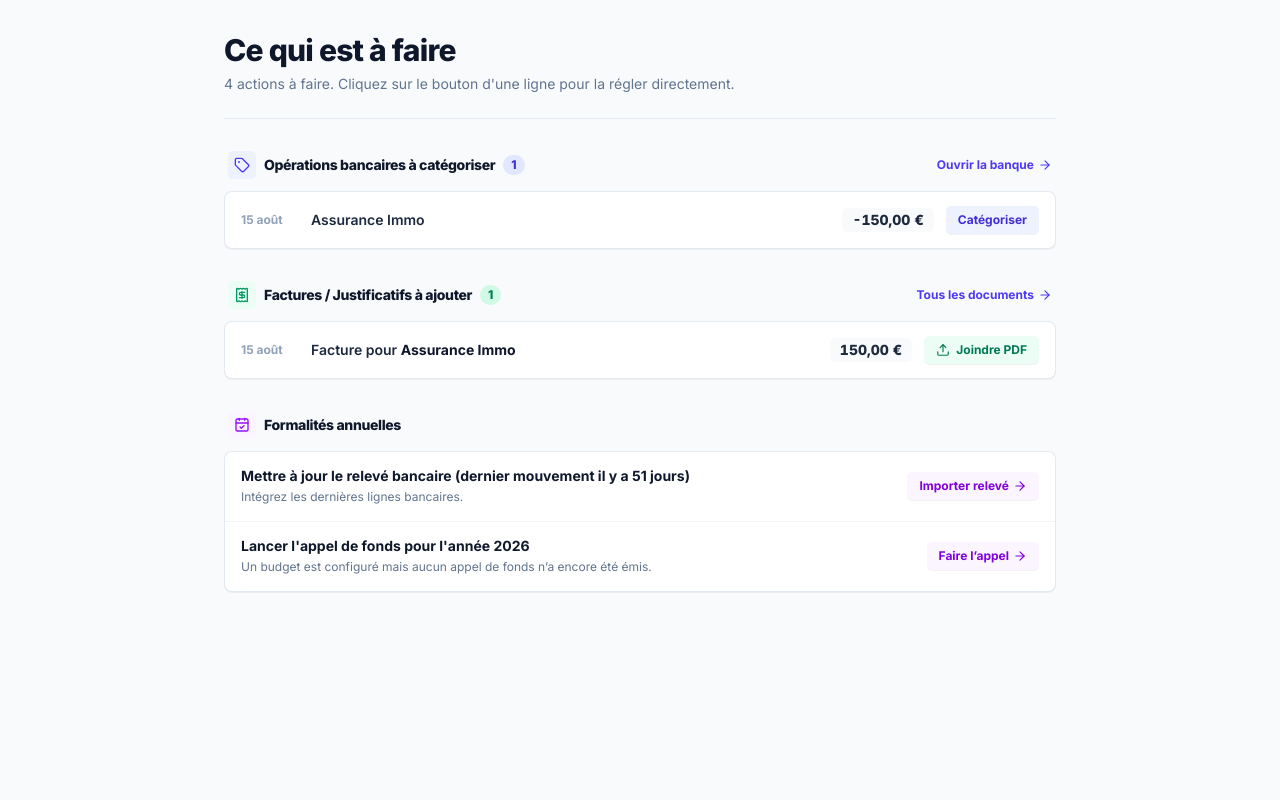
Test: Overview Component › opens direct reconcile modal when clicking Catégoriser
This screenshot has width=1280, height=800.
Click the button "Catégoriser" at (992, 220), box [946,206,1039,234]
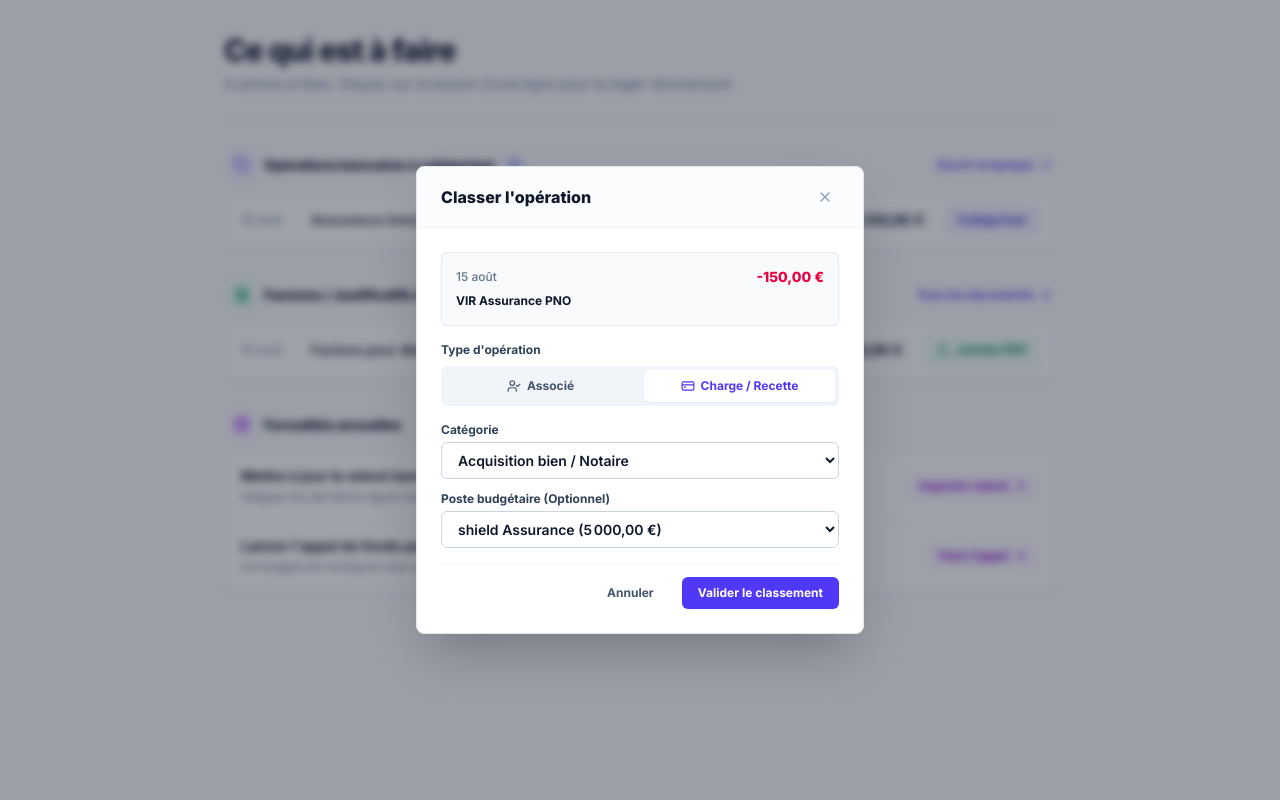
Expected: the heading "Classer l'opération" is shown, [441,185,591,209]
Expected: the button "Valider le classement" is shown, [682,577,839,609]
Expected: the text "Poste budgétaire (Optionnel)" is shown, [441,491,610,506]
